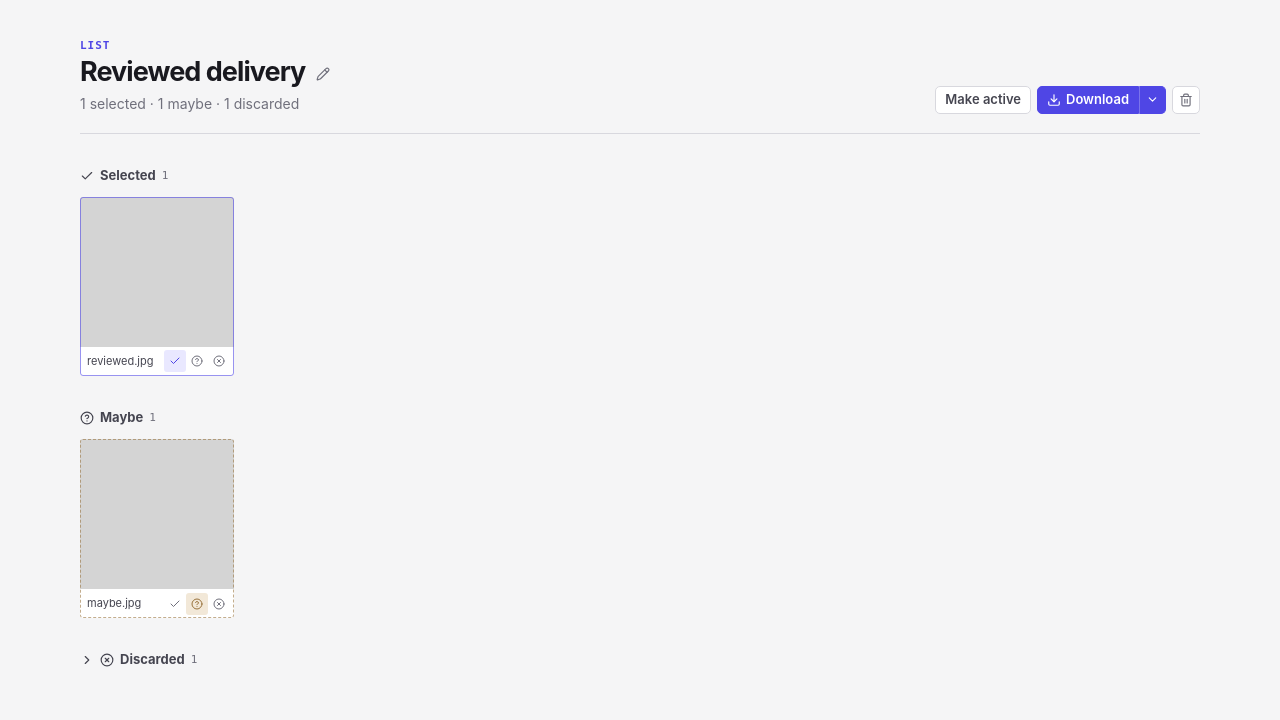
Test case: ListPage viewer › removes a reviewed item through its active Selected button
What coordinates should you click on to do the following:
click the button named "Remove selected status"
I would click on:
 (175, 362)
Its box is left=164, top=350, right=186, bottom=372.
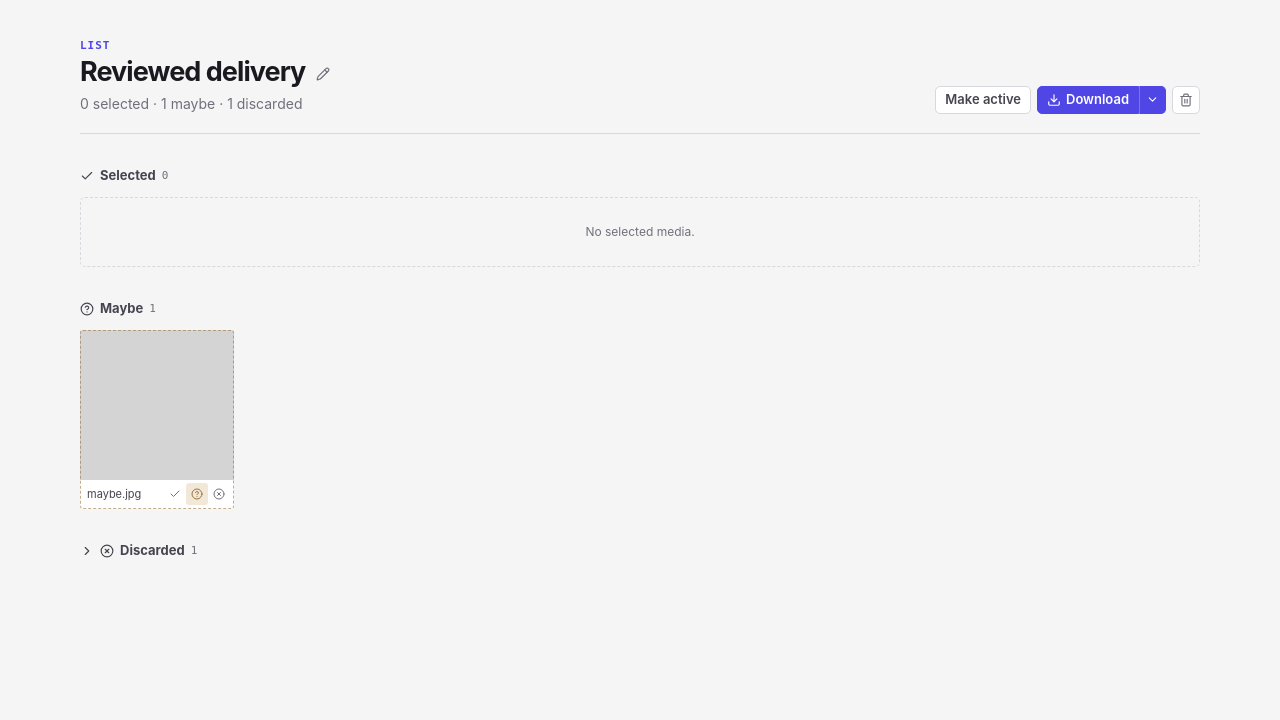
Expected: the text "No selected media." is shown, left=80, top=197, right=1200, bottom=267
